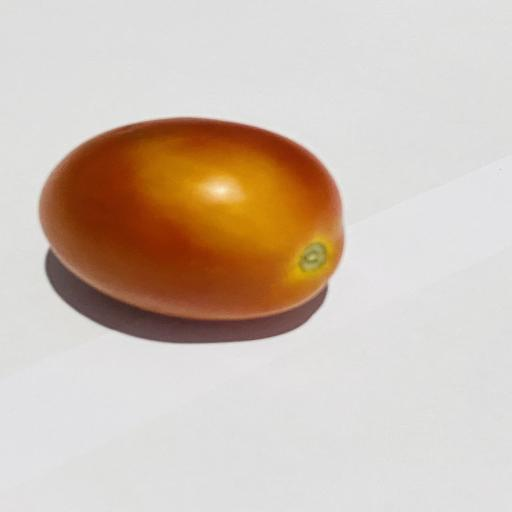ripe: (40, 118, 344, 319)
